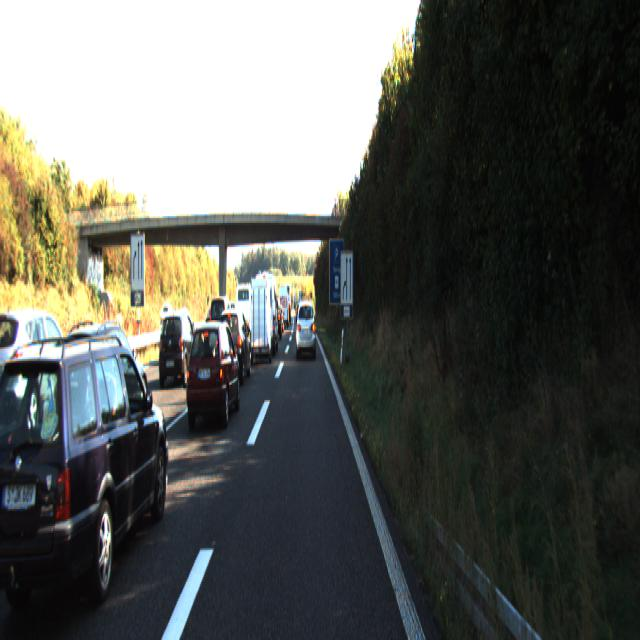Car: (0, 328, 174, 639), (53, 319, 150, 454), (0, 307, 83, 445), (185, 319, 241, 430), (157, 310, 200, 386), (216, 305, 252, 384), (247, 276, 273, 364), (253, 270, 279, 353), (296, 296, 316, 358), (278, 284, 289, 327)
